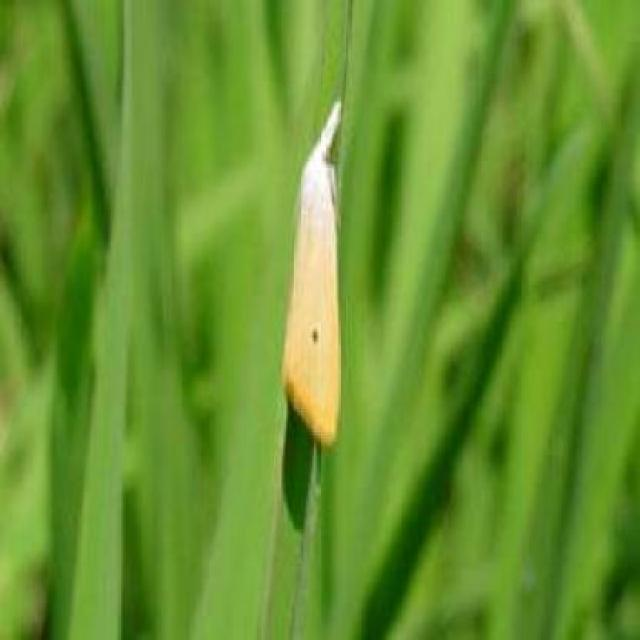stem-borer: (282, 95, 349, 452)
